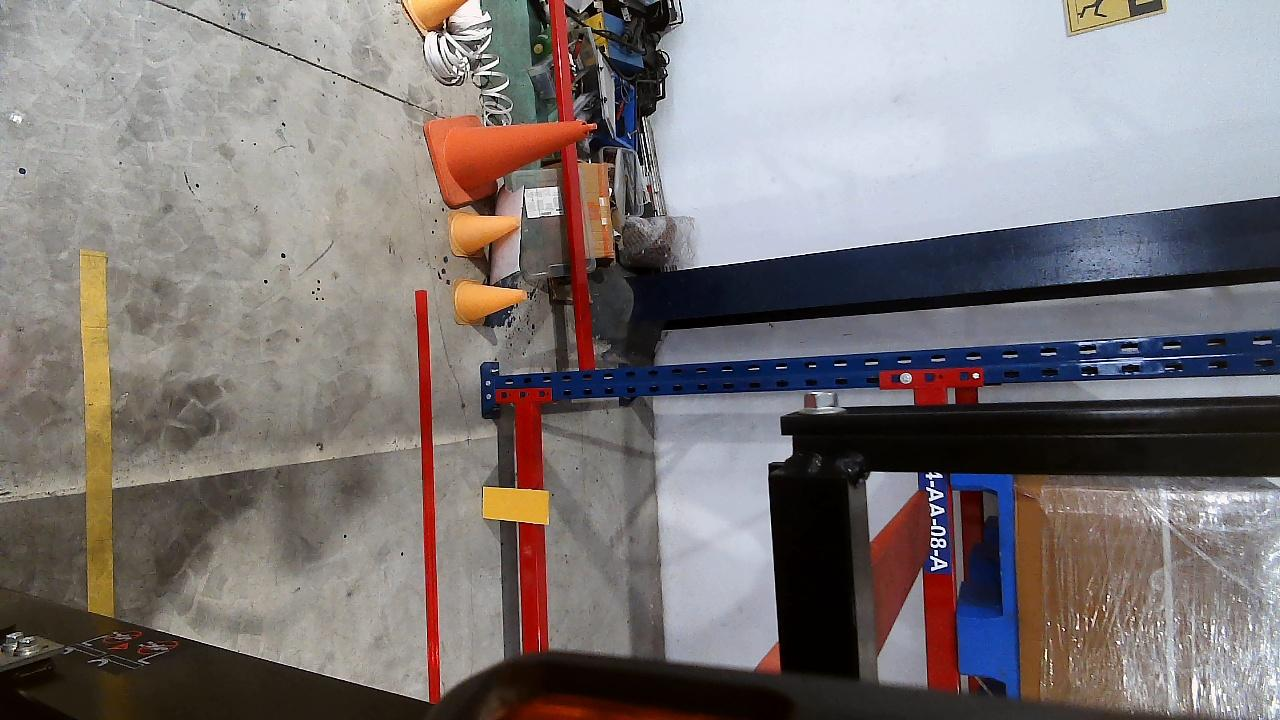h_rack: (917, 470, 963, 690), (512, 403, 546, 651)
orange_strip: (482, 487, 550, 523)
red_line: (414, 291, 444, 704)
small_pallet: (955, 473, 1023, 697)
yellow_line: (80, 250, 113, 618)
